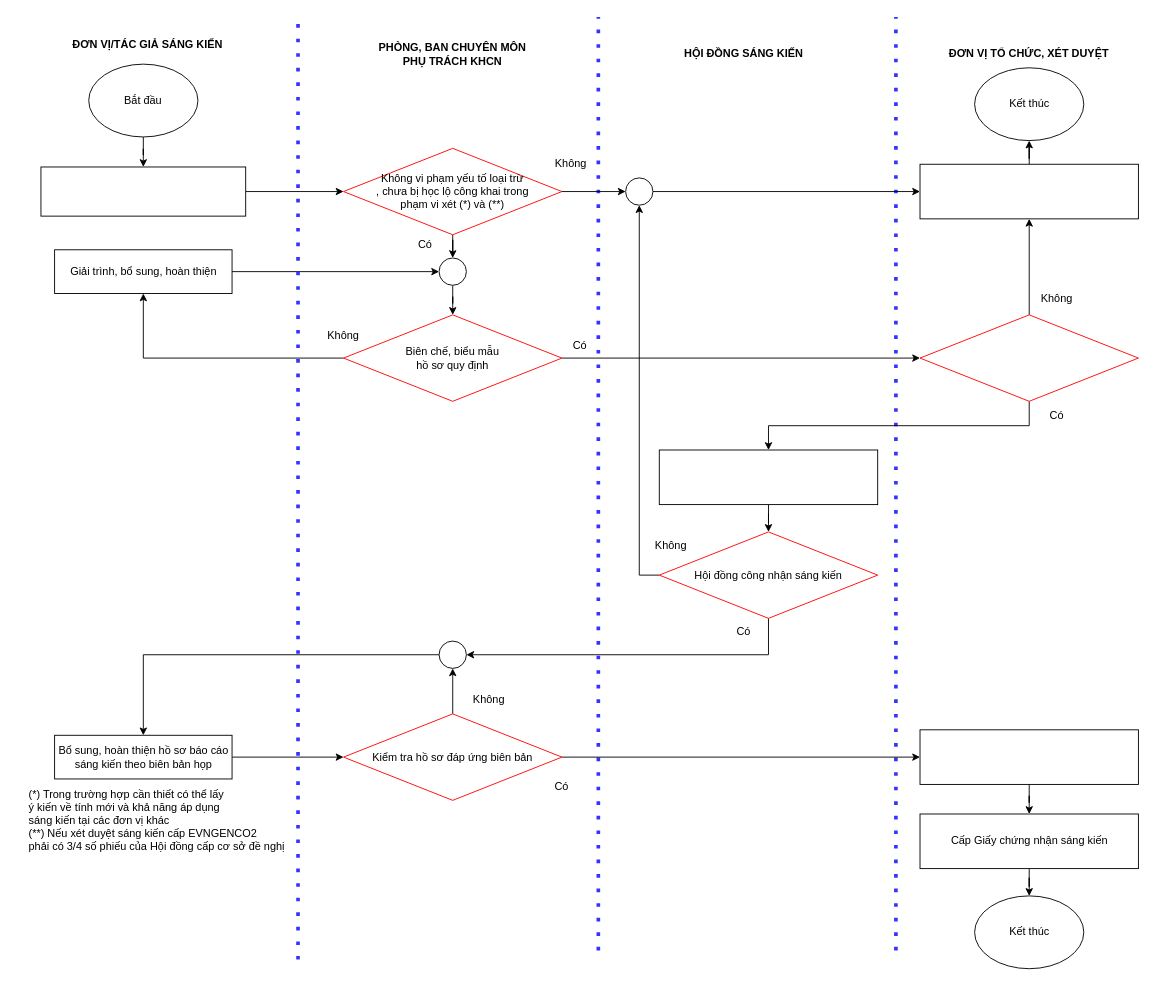
Some shapes in this 1159 by 986 pixel diagram are drawn without their labels. Here are the shapes that lost their labels. From the top down, the centre of each, then its label:
At (143,191): "Gửi đơn đề nghị công nhận sáng kiến và các tài liệu kèm theo".
At (1028,191): "Thông báo đơn vị lý do không được công nhận".
At (1028,357): "Thành lập Hội đồng xét duyệt sáng kiến".
At (768,477): "TỔ CHỨC HỌP HỘI ĐỒNG XÉT DUYỆT SÁNG KIẾN (Ban hành BB không quá 15 NLV)".
At (1028,756): "Ban hành Quyết định công nhận sáng kiến (không quá 15 NLV)".
